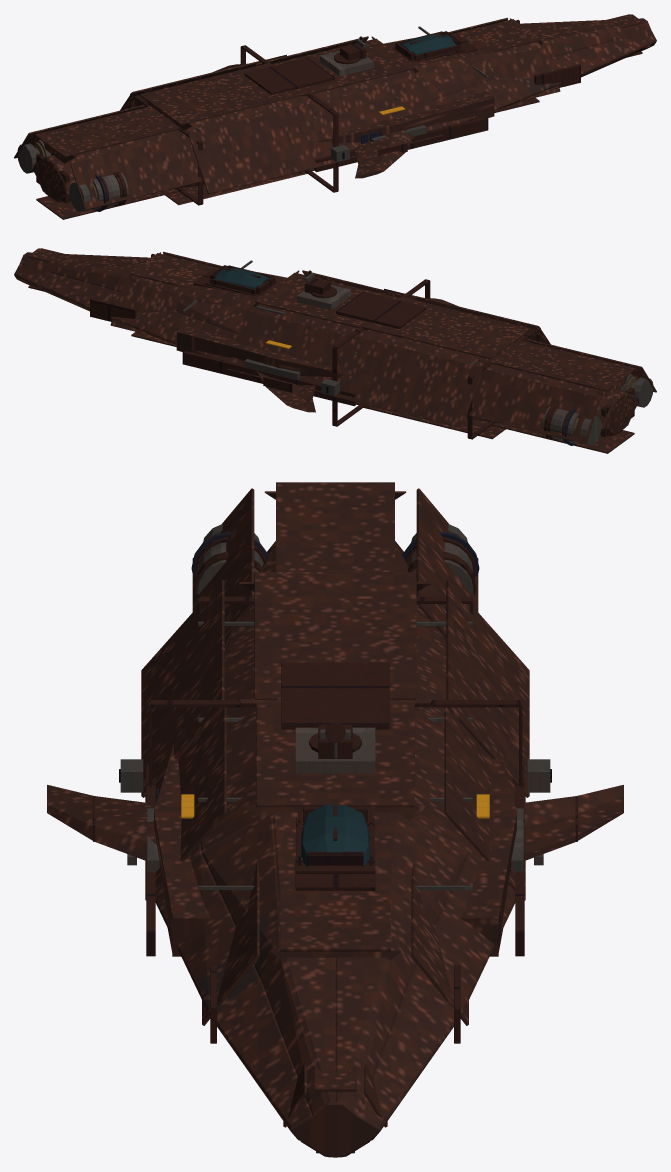
The model's file is ashline_rig_production_v1_lod2.glb.
3 renders of one model, top to bottom at view 1: azimuth 30°, elevation 25°; view 2: azimuth 150°, elevation 25°; view 3: azimuth 270°, elevation 25°, orthographic. The views are drawn at different scales.
Parts seen in each view (by area): view 1: LOD2_Hull, LOD2_Armor, LOD2_Mechanical, LOD2_Canopy; view 2: LOD2_Hull, LOD2_Armor, LOD2_Mechanical, LOD2_Canopy; view 3: LOD2_Hull, LOD2_Armor, LOD2_Mechanical, LOD2_Canopy.
Boxes of the visible parts, bbox=[...] form: LOD2_Hull: bbox=[14, 14, 656, 219]; LOD2_Armor: bbox=[36, 20, 580, 209]; LOD2_Mechanical: bbox=[17, 26, 488, 211]; LOD2_Canopy: bbox=[401, 34, 455, 55]; LOD2_Hull: bbox=[14, 248, 656, 453]; LOD2_Armor: bbox=[90, 254, 634, 443]; LOD2_Mechanical: bbox=[182, 260, 653, 445]; LOD2_Canopy: bbox=[215, 268, 269, 289]; LOD2_Hull: bbox=[47, 482, 623, 1157]; LOD2_Armor: bbox=[93, 537, 577, 1043]; LOD2_Mechanical: bbox=[120, 524, 550, 1084]; LOD2_Canopy: bbox=[301, 805, 369, 867].
Size of what is drawn, in the model's own units: 14.56 by 2.47 by 6.1.
Materials: 9 (9 with a texture image).
